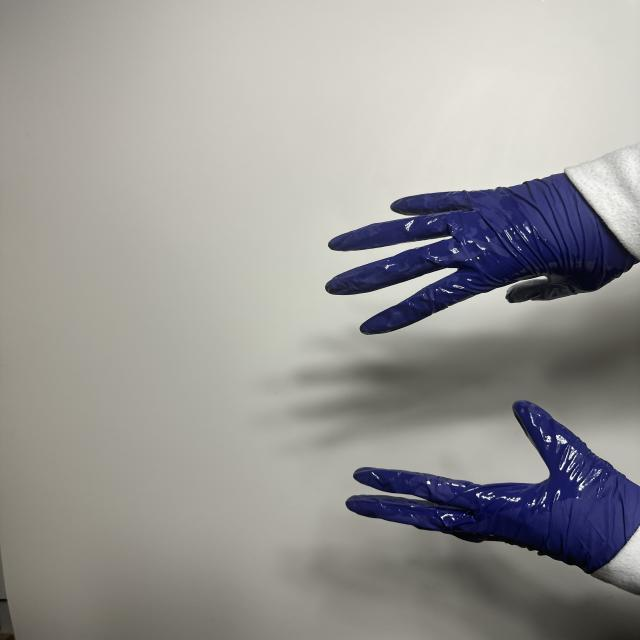gloves_contaminated: (347, 401, 640, 573), (326, 173, 636, 335)
